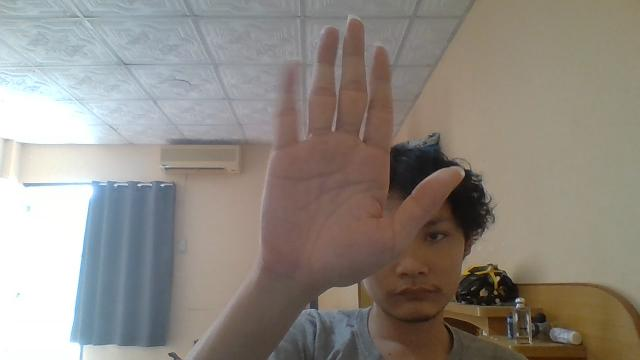Stop: (258, 13, 466, 295)
